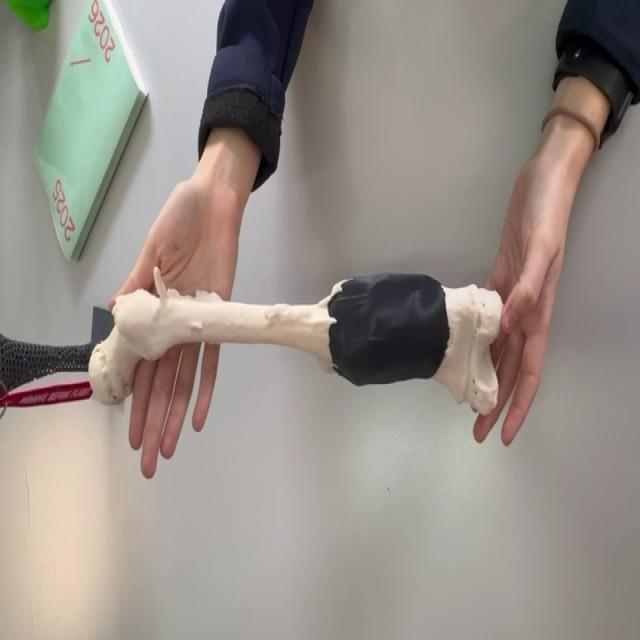bones: (90, 268, 502, 414)
